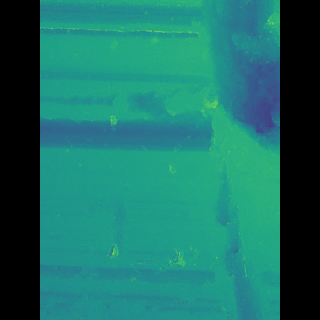Loch: (183, 0, 250, 320), (97, 170, 140, 320), (79, 77, 197, 130), (124, 14, 166, 68)
